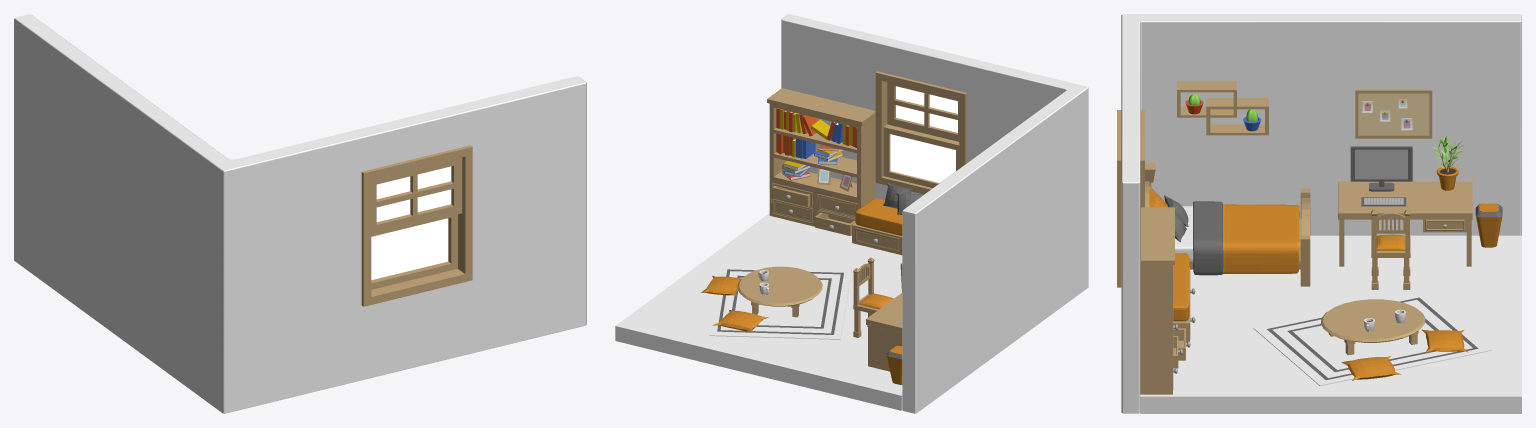
File: bedroom.gltf
3 renders of one model, left to right at view 1: azimuth 30°, elevation 25°; view 2: azimuth 150°, elevation 25°; view 3: azimuth 270°, elevation 25°, orthographic. The views are drawn at different scales.
Parts seen in each view (by area): view 1: Wall, Window; view 2: Wall, Floor, Bookshelf, Window, Carpet, Coffe table, Sofa, Table, Book.001, Chair, Book.002, Cushion.001 (+3 smaller); view 3: Wall, Floor, Bed, Carpet, Bookshelf, Table, Board, Coffe table, Wallshelf, PC, Chair, Bed frame (+8 smaller).
Boxes of the visible parts, <box> form: Wall: <box>14,14,586,413</box>; Window: <box>361,145,472,306</box>; Wall: <box>781,14,1088,413</box>; Floor: <box>615,213,902,410</box>; Bookshelf: <box>767,88,875,235</box>; Window: <box>875,71,967,194</box>; Carpet: <box>709,265,851,339</box>; Coffe table: <box>737,266,822,317</box>; Sofa: <box>852,198,902,255</box>; Table: <box>866,293,902,371</box>; Book.001: <box>776,108,856,147</box>; Chair: <box>853,257,893,337</box>; Book.002: <box>776,133,815,158</box>; Cushion.001: <box>712,310,769,332</box>; Wall: <box>1121,14,1521,413</box>; Floor: <box>1140,235,1521,413</box>; Bed: <box>1175,201,1299,275</box>; Carpet: <box>1253,292,1491,385</box>; Bookshelf: <box>1140,207,1190,394</box>; Table: <box>1338,181,1472,266</box>; Board: <box>1355,89,1432,138</box>; Coffe table: <box>1320,299,1425,355</box>; Wallshelf: <box>1177,81,1268,135</box>; PC: <box>1350,146,1412,191</box>; Chair: <box>1371,210,1410,289</box>; Bed frame: <box>1145,163,1310,286</box>.
Size of the model in its own units: 8.4 by 5.37 by 8.49.
